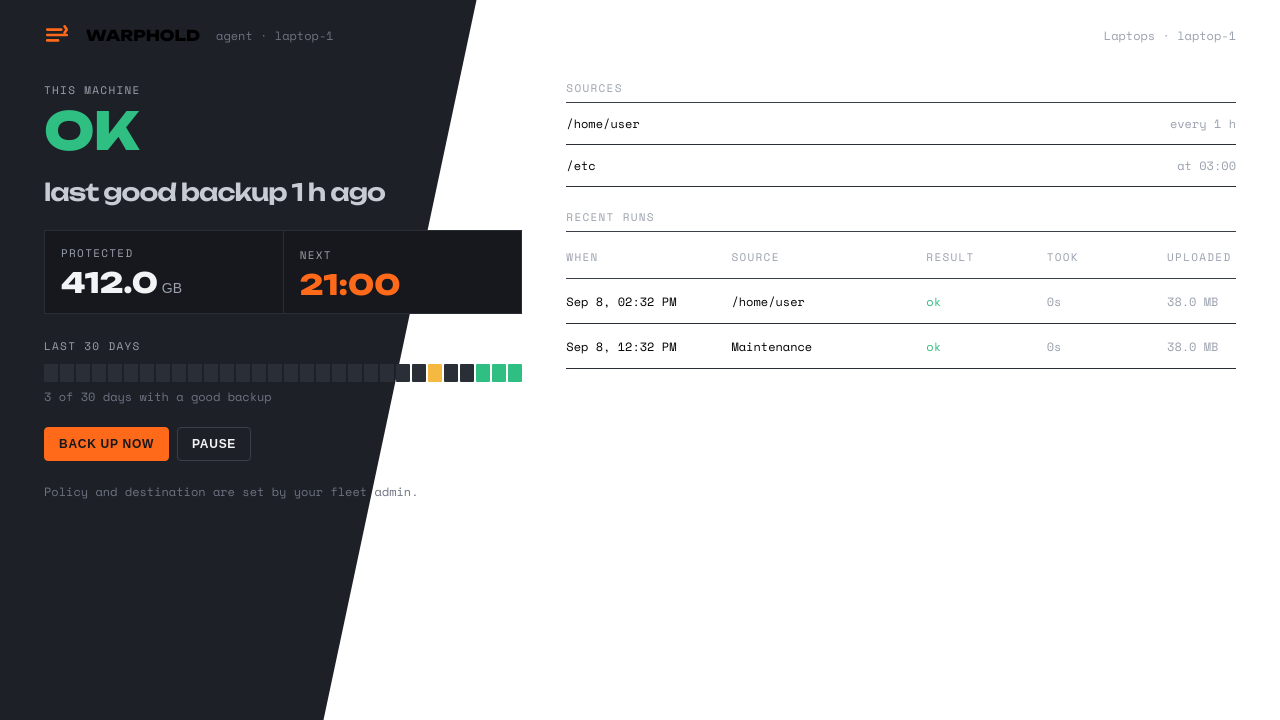
Test: AgentHome › expands a run to its log and collapses it again
Click the text "/home/user" below "When": (768, 302) [731,293,805,310]
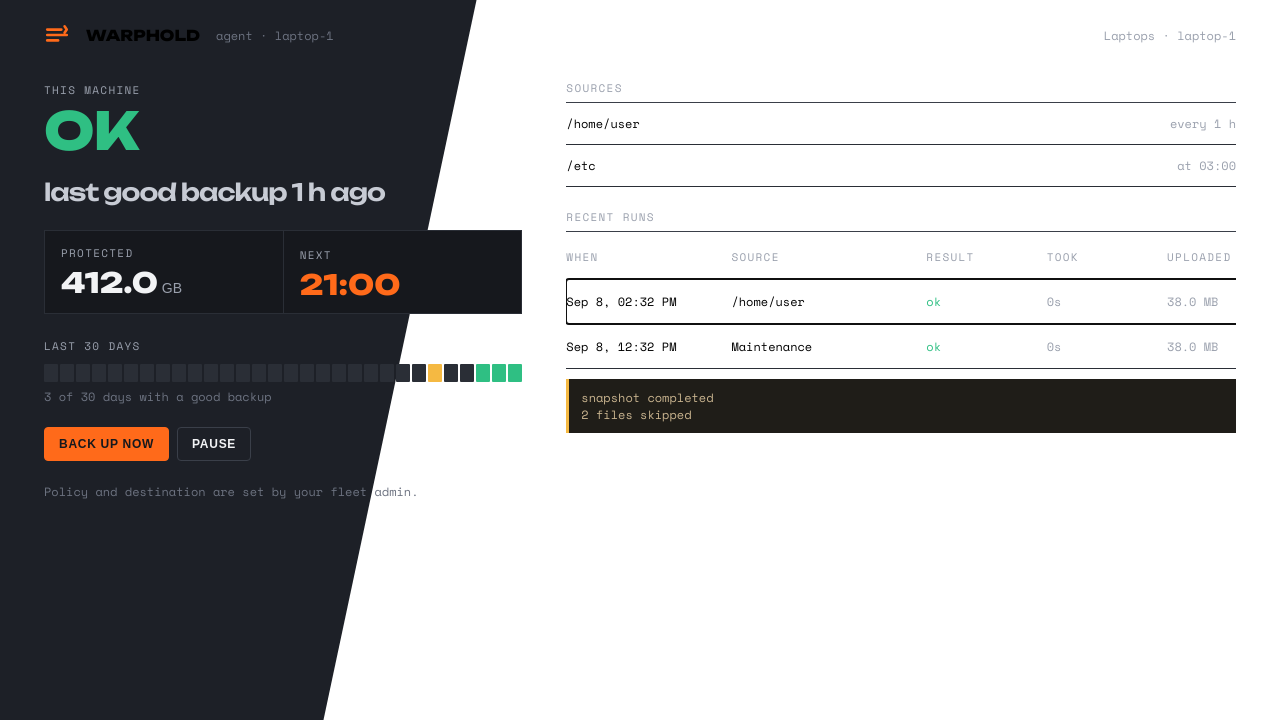
Expected: the text with test id "run-log" shows "snapshot completed", [581,389,714,423]
Expected: the text with test id "run-log" shows "2 files skipped", [581,389,714,423]
Click the text "/home/user" below "When": (768, 302) [731,293,805,310]
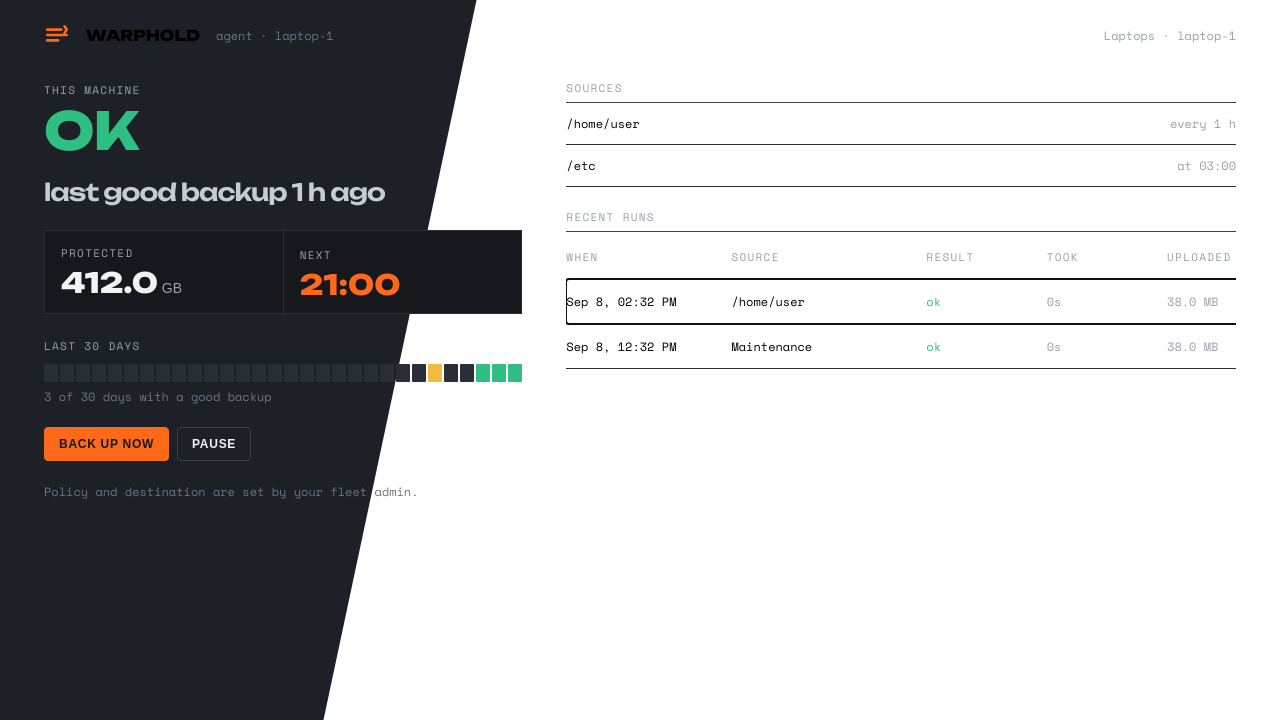
Expected: the text with test id "run-log" is gone
